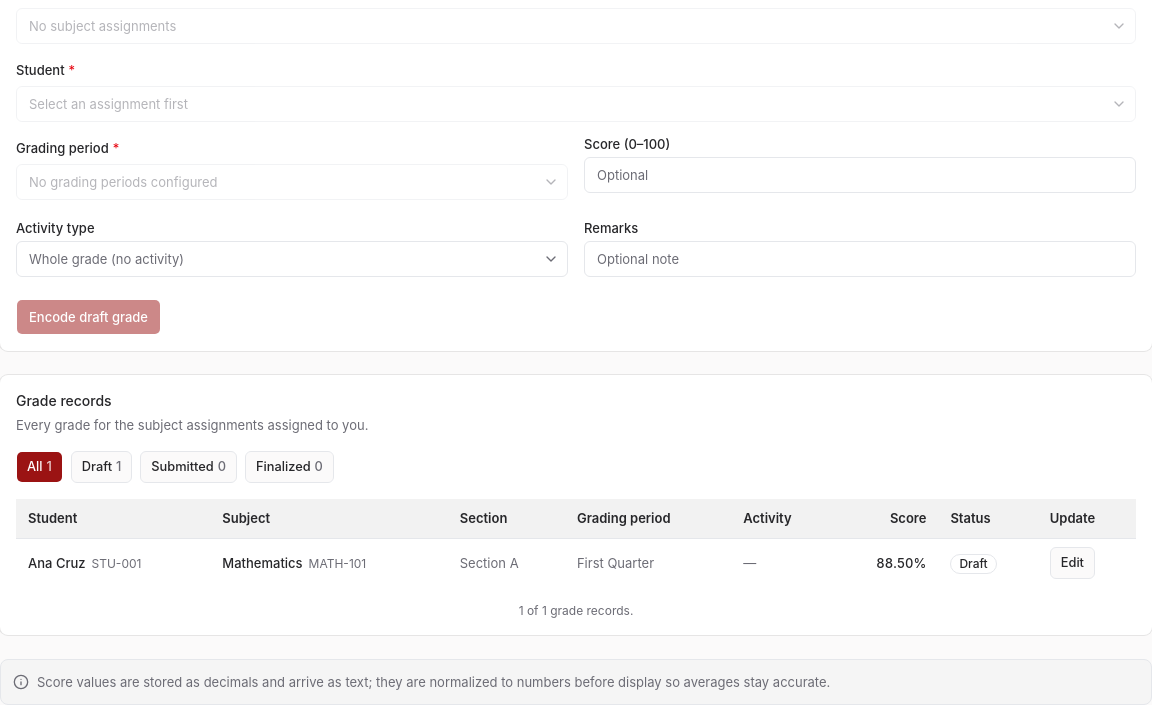
Test: AcademicsPage (faculty grade update) › saves the updated score with the content-only payload (TC-FAC-11)
(page scrolled)
Check: the text "MATH-101" is shown, box [309,556,366,571]
Click the button "Edit" at (1072, 563), box [1050,547,1095,579]
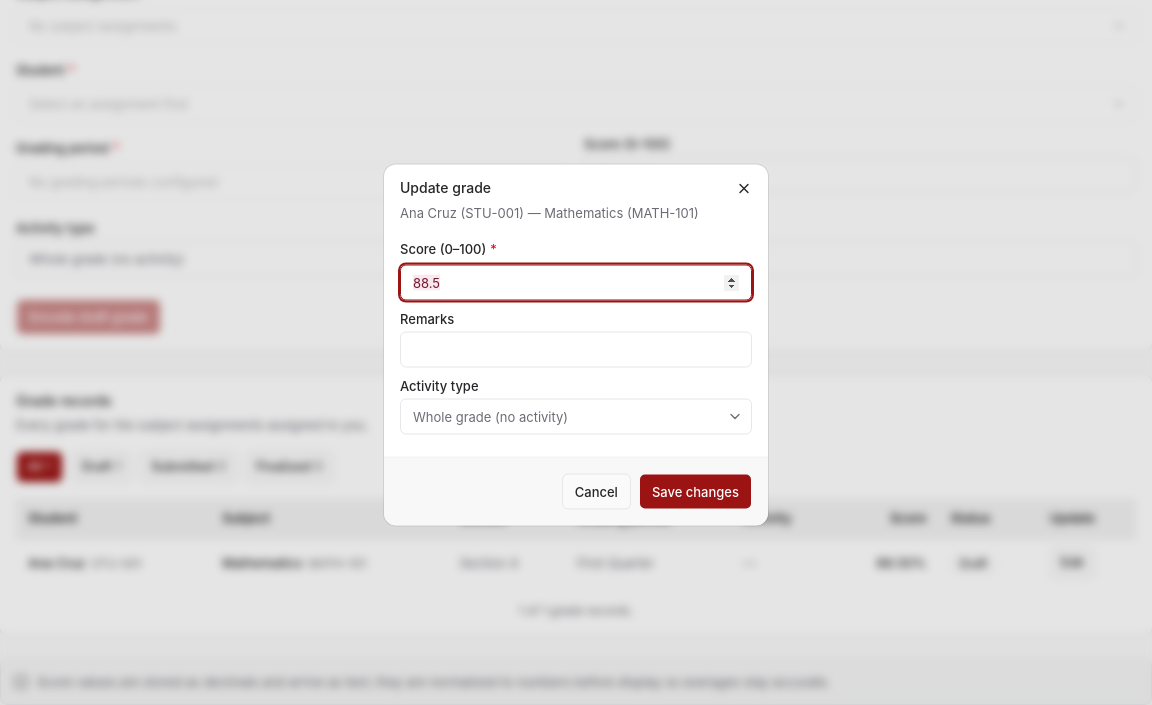
Check: the number field labelled "Score (0–100)" holds "88.5"
Replace the text in the number field labelled "Score (0–100)" with "91" at (576, 282), box [400,264,752,300]
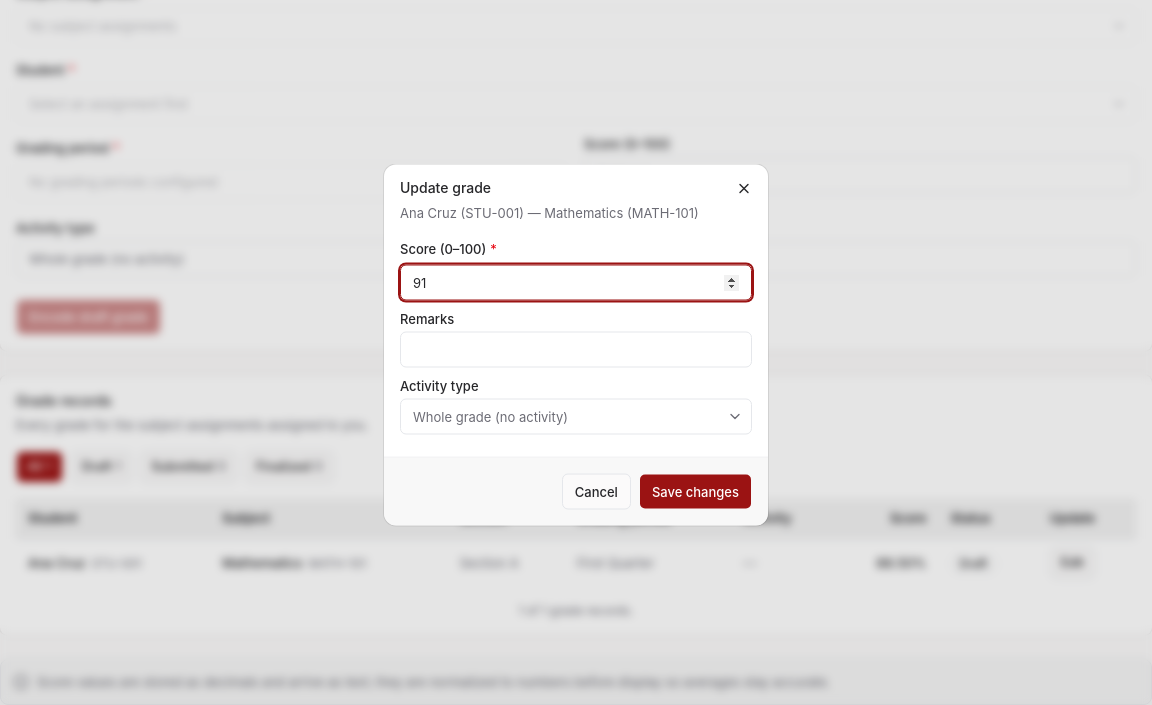
Click the button "Save changes" at (695, 492), box [639,474,752,510]
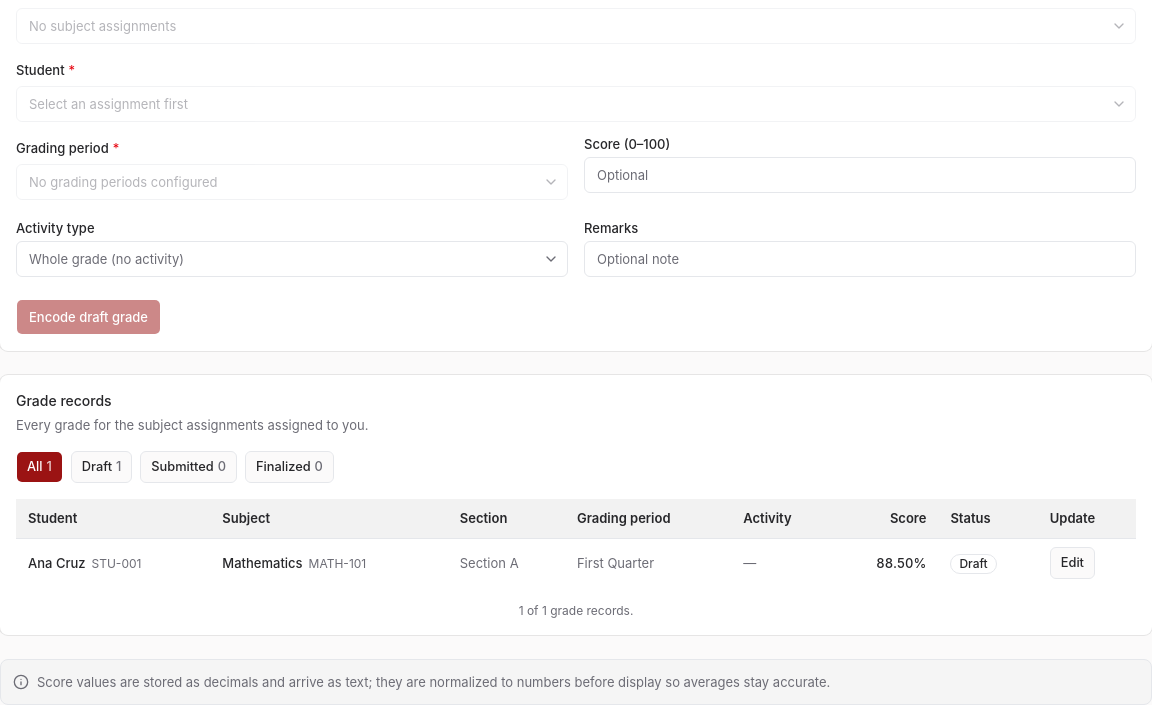
Check: the dialog is gone
